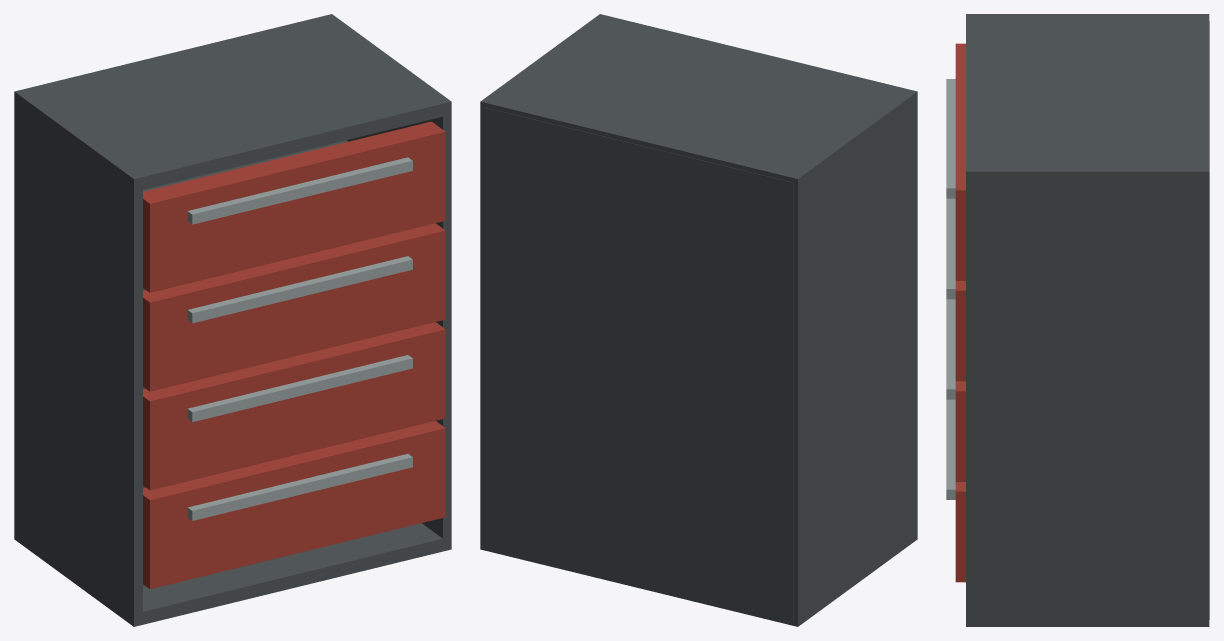
The model's file is PROP_Drawers.glb.
3 renders of one model, left to right at view 1: azimuth 30°, elevation 25°; view 2: azimuth 150°, elevation 25°; view 3: azimuth 270°, elevation 25°, orthographic.
Visible parts, largest first — view 1: Cabinet, Drawers, UpperDrawer, Pulls, UpperPull; view 2: Back, Cabinet; view 3: Cabinet, Drawers, Pulls, UpperDrawer, UpperPull, Back.
Boxes of the visible parts, x1,y1,x2,y2 form: Cabinet: [14, 14, 451, 626]; Drawers: [143, 223, 445, 589]; UpperDrawer: [143, 121, 445, 292]; Pulls: [187, 256, 412, 520]; UpperPull: [187, 157, 412, 224]; Back: [484, 107, 793, 621]; Cabinet: [480, 14, 917, 626]; Cabinet: [966, 14, 1209, 626]; Drawers: [955, 281, 965, 582]; Pulls: [946, 198, 955, 499]; UpperDrawer: [955, 43, 965, 280]; UpperPull: [946, 79, 955, 198]; Back: [1209, 21, 1209, 619].
Bounding box in the file's own units: 0.72 × 0.97 × 0.509.
